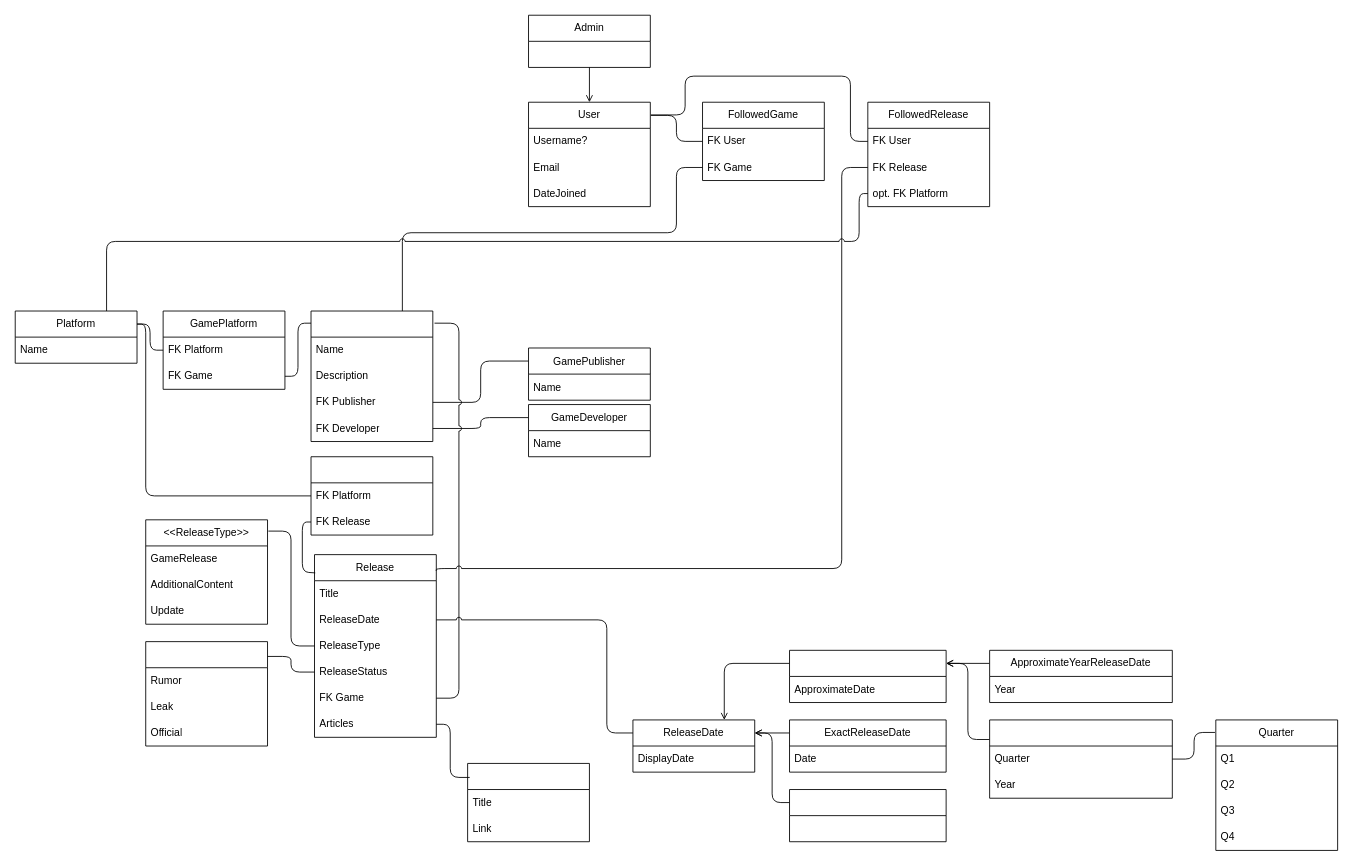
The diagram is 1353 pixels wide and 866 high, and some of its shapes have lost their labels. The box of each missing label's shape, as (x1, y1, x2, y2) in pixels:
<<ReleaseStatus>>: (145, 641, 268, 746)
ApproximateQuarterReleaseDate: (989, 719, 1172, 798)
ApproximateReleaseDate: (789, 649, 946, 703)
Game: (310, 310, 433, 442)
NoReleaseDate: (789, 789, 946, 842)
ReleaseArticle: (467, 763, 589, 842)
ReleasePlatform: (310, 456, 433, 535)
